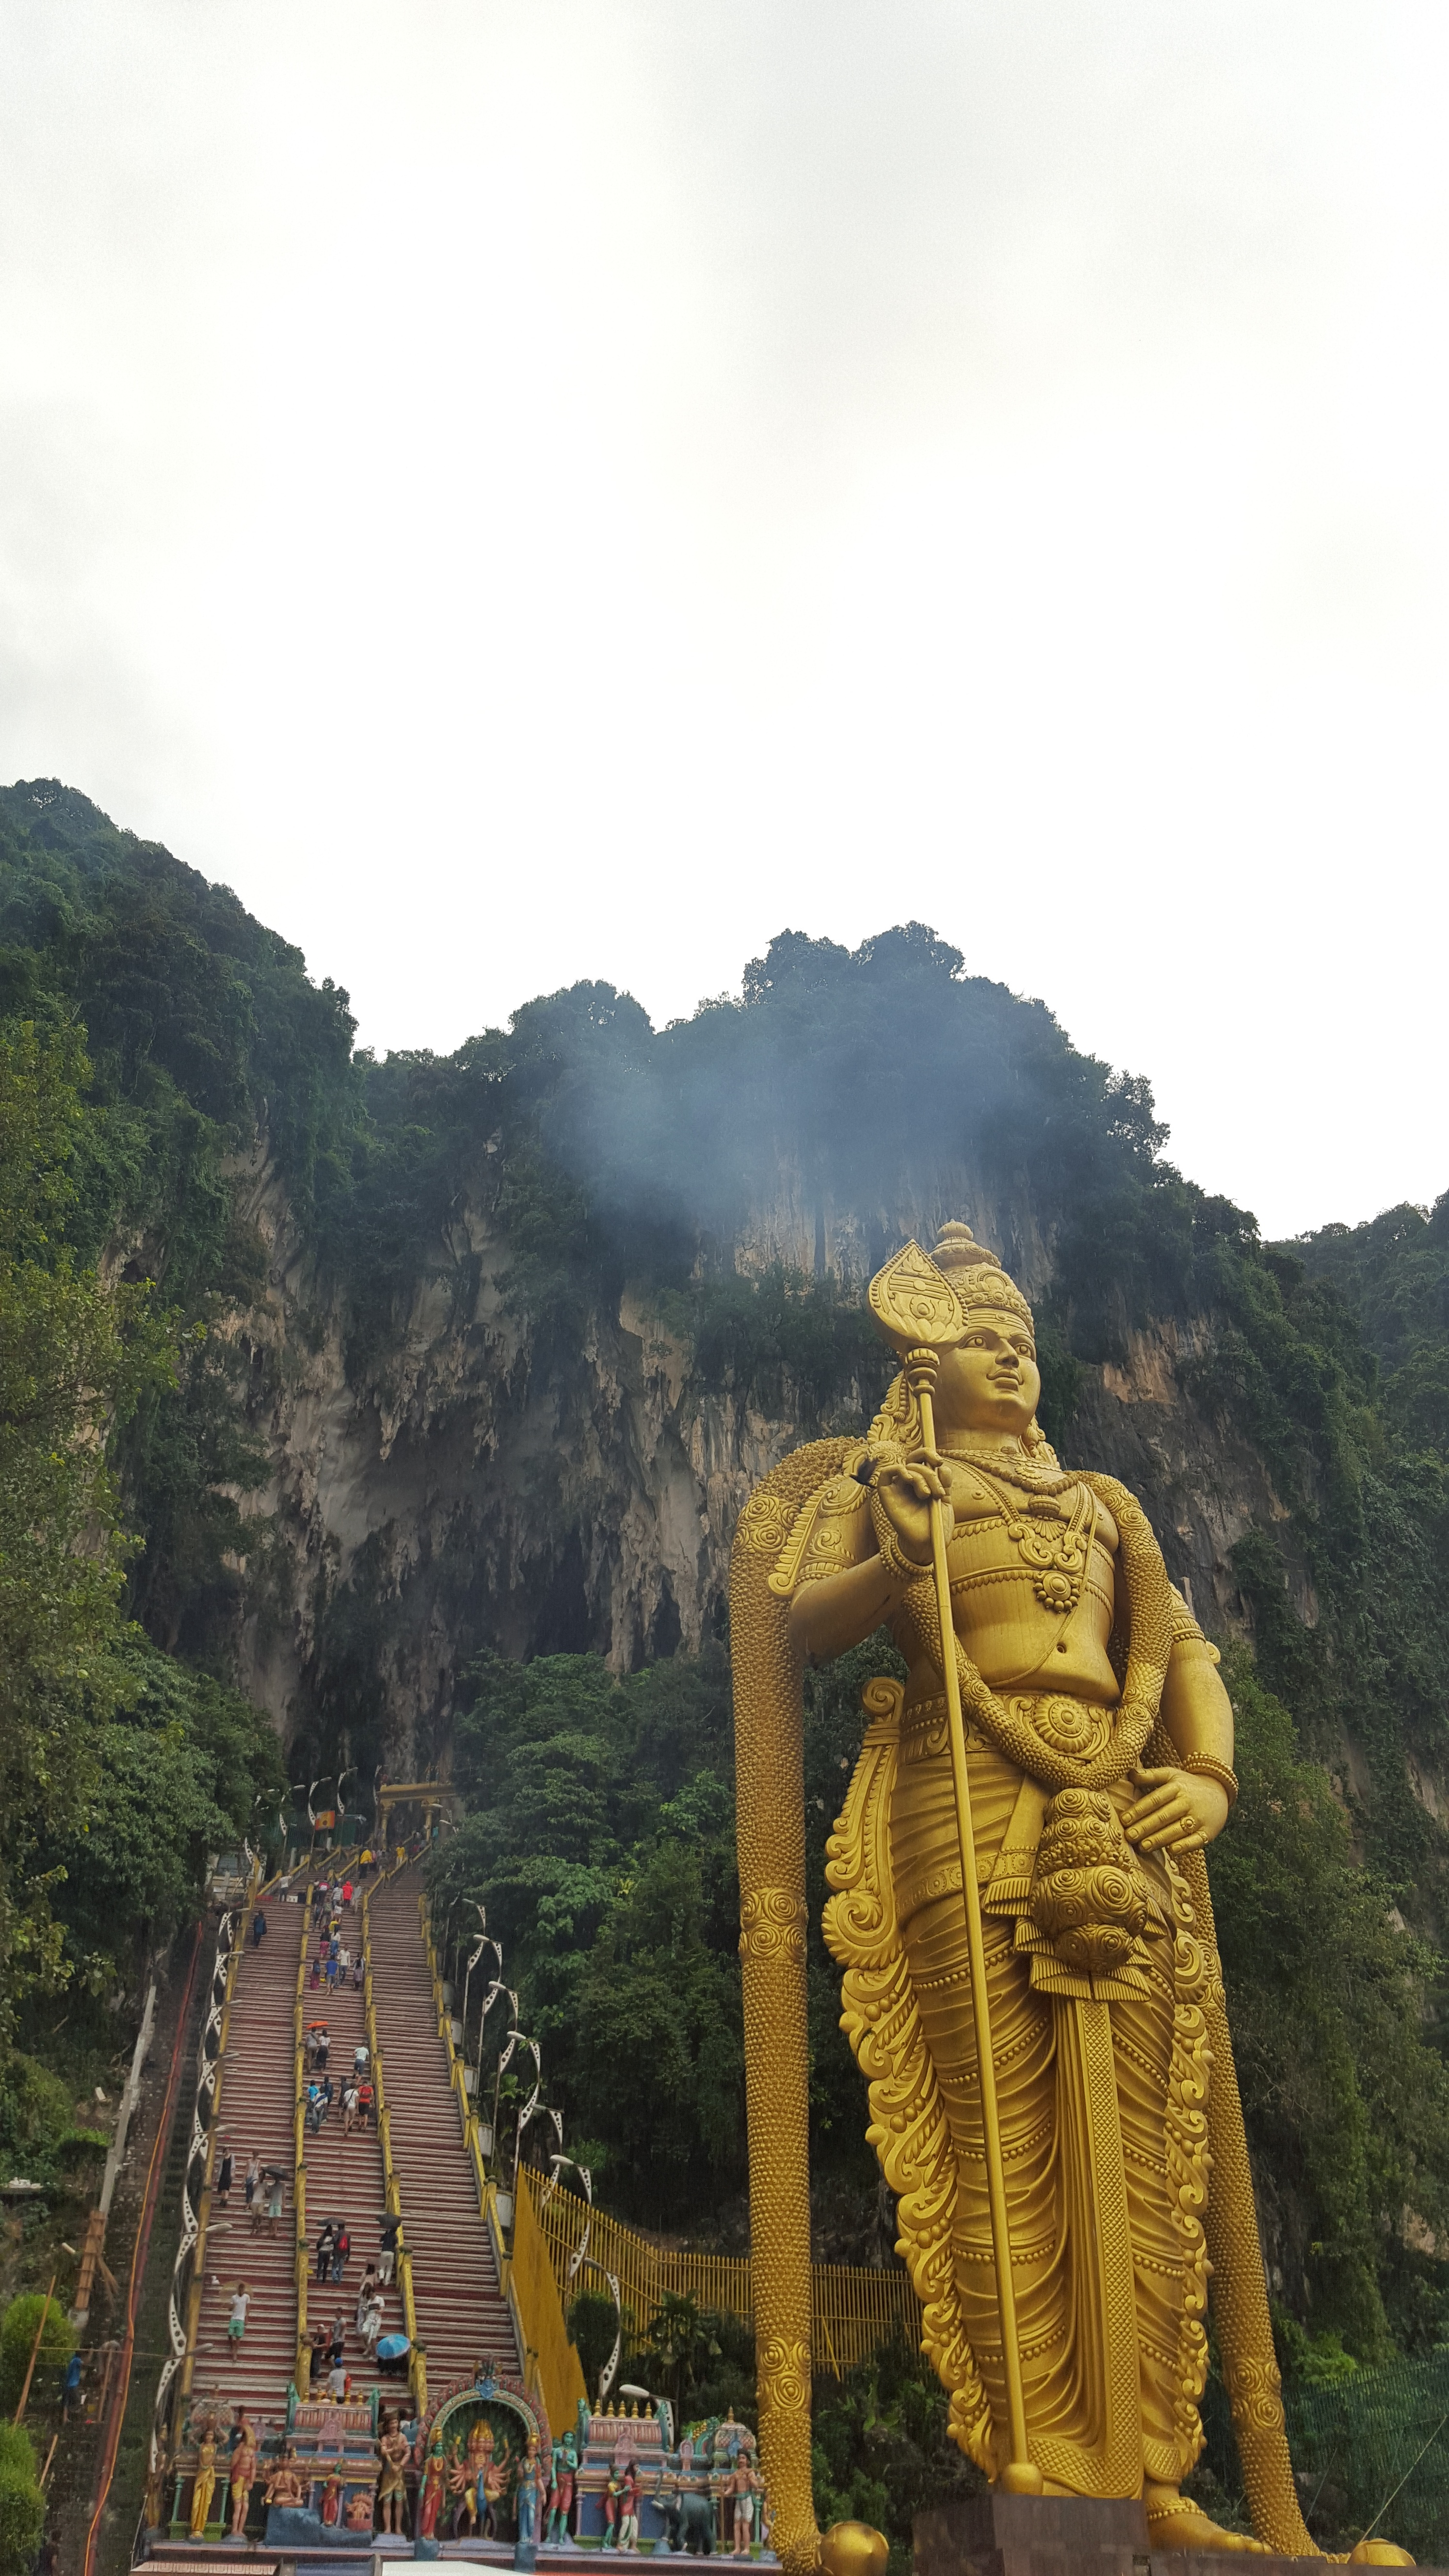Hindu Temple: (674, 1180, 1272, 2516)
